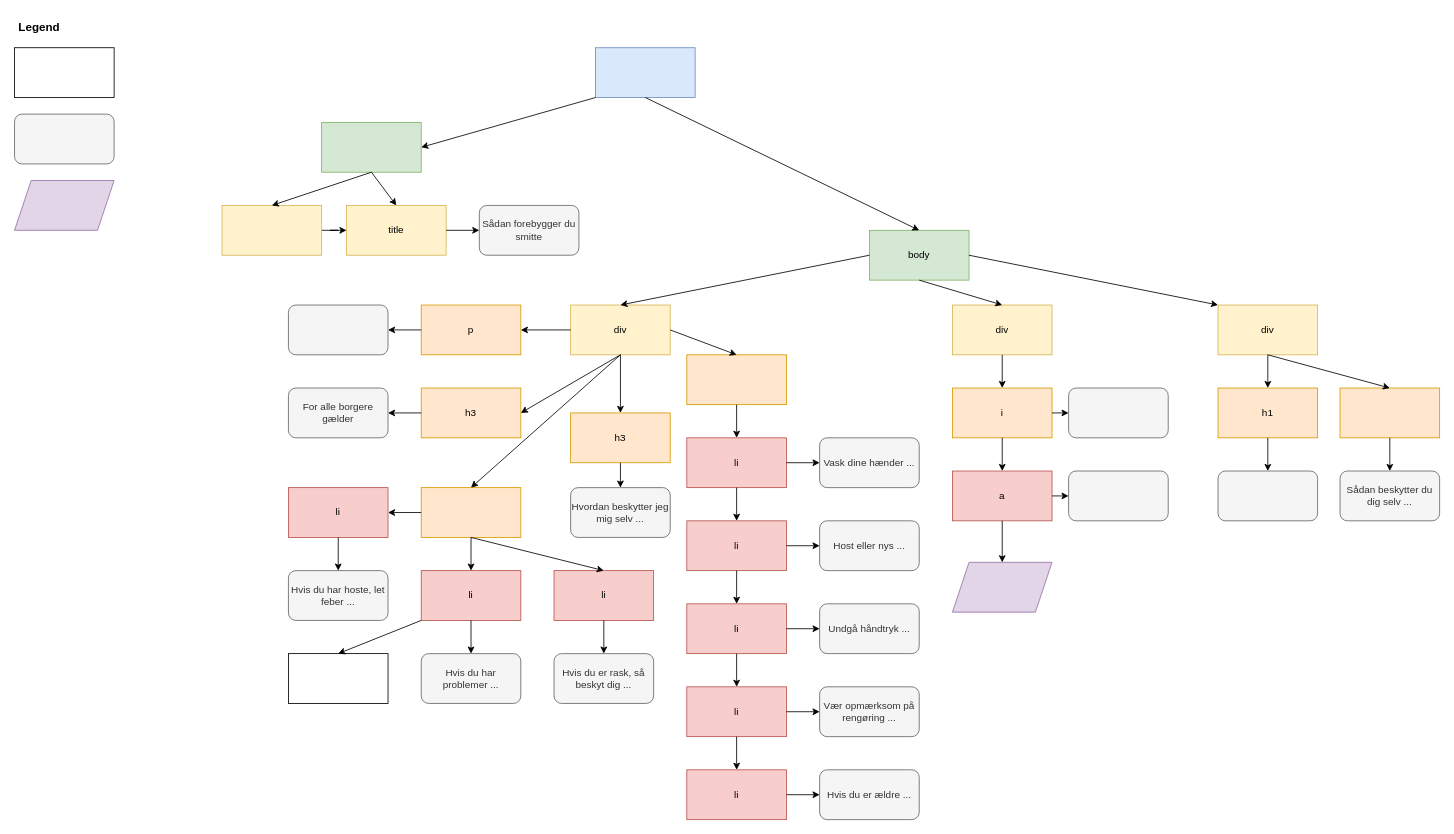
The diagram is 1454 pixels wide and 834 high, and some of its shapes have lost their labels. The centre of each missing label's shape, as x and y in pixels:
<tag>: pixel 64 72
br: pixel 338 678
Forebyg smitte: pixel 1267 495
h2: pixel 1389 412
head: pixel 371 147
href="https://politi.dk ...: pixel 1002 586
html: pixel 645 72
https://politi.dk/coronavirus-i-danmark/forebyg-smitte: pixel 1118 495
hyperlink: pixel 64 205
I hele Danmark er strategien ...: pixel 338 329
Kilde:: pixel 1118 412
meta: pixel 271 230
ol: pixel 736 379
text: pixel 64 138
ul: pixel 470 512
